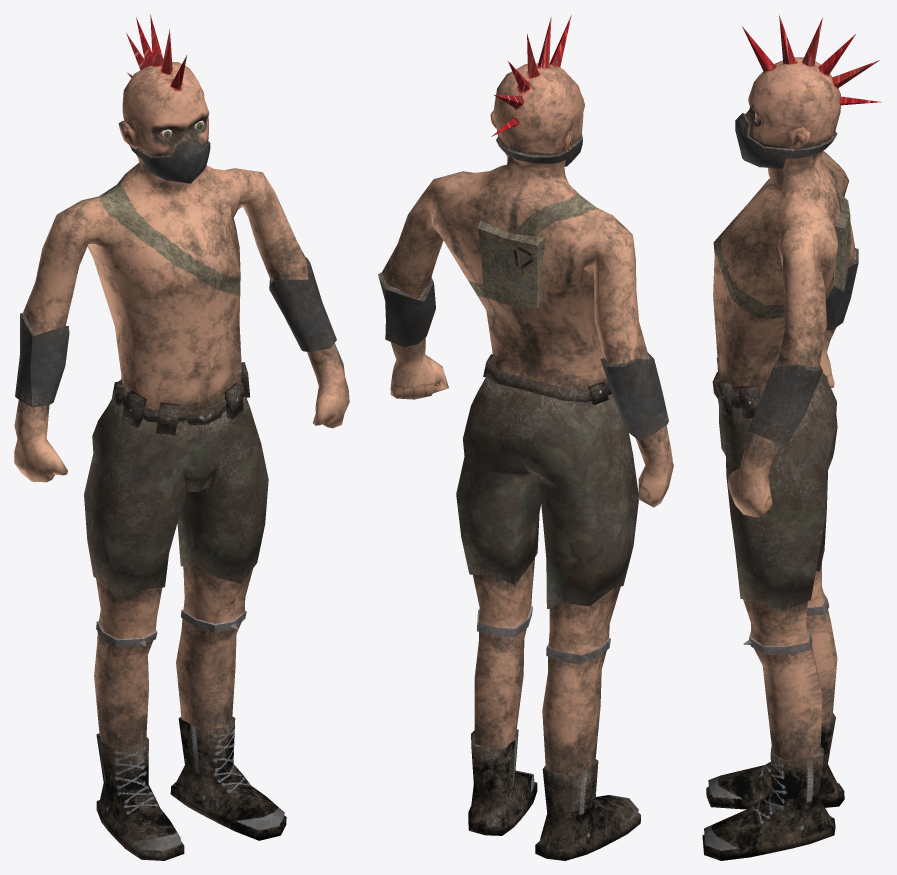
File: Anim_disparar_pistola_npc2.0035.obj
3 renders of one model, left to right at view 1: azimuth 30°, elevation 25°; view 2: azimuth 150°, elevation 25°; view 3: azimuth 270°, elevation 25°, orthographic. The views are drawn at different scales.
Visible parts, largest first — view 1: polySurface1; view 2: polySurface1; view 3: polySurface1.
Part boxes in pixels (bbox=[...]): polySurface1: bbox=[14, 14, 349, 860]; polySurface1: bbox=[378, 15, 673, 860]; polySurface1: bbox=[702, 14, 881, 860].
Bounding box in the file's own units: 4.05 × 10.24 × 2.08.
